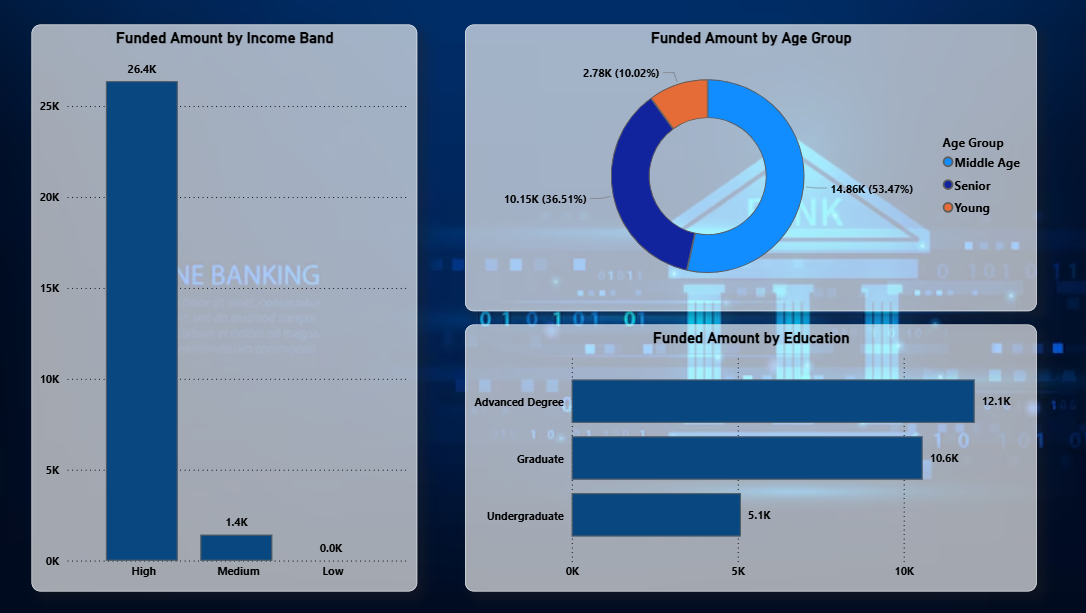

What the dashboard file says about the page in this screenshot:
{"tool":"powerbi","page":{"name":"Page 4","canvas":[1280,720],"ordinal":3},"visuals":[{"type":"columnChart","title":"Funded Amount by Income Band","fields":{"Category":["Data.Income Band"],"Y":["Data.Total Funded Amount"]},"box":[45,41.7,428.3,630],"z":2000},{"type":"barChart","title":"Funded Amount by Education","fields":{"Category":["Data.Education Name"],"Y":["Data.Total Funded Amount"]},"box":[526.7,375,635,296.7],"z":3000},{"type":"donutChart","title":"Funded Amount by Age Group","fields":{"Category":["Data.Age Group"],"Y":["Data.Total Funded Amount"]},"box":[526.7,41.7,635,318.3],"z":4000}]}

Visuals, with their boxes in screenshot pixels (x1, y1, x2, y2), scaled from the page's 1280x720 canvas onto the 1086x613 screenshot:
"Funded Amount by Income Band" columnChart: <region>38, 36, 402, 572</region>
"Funded Amount by Education" barChart: <region>447, 319, 986, 572</region>
"Funded Amount by Age Group" donutChart: <region>447, 36, 986, 306</region>
